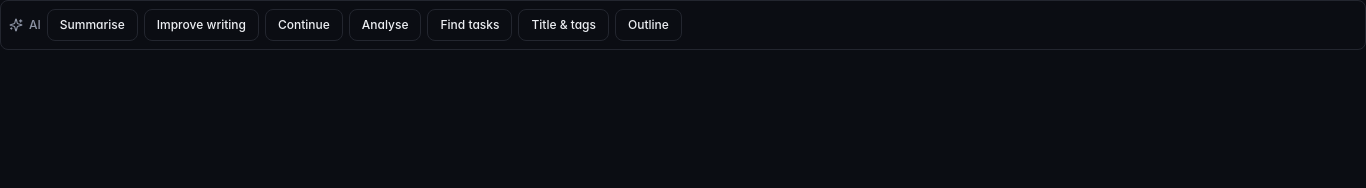
NoteAiPanel › offers no Apply for an answer that is only to be read
Step 1. Click the button "Analyse" → (385, 25), box [349,9,422,41]
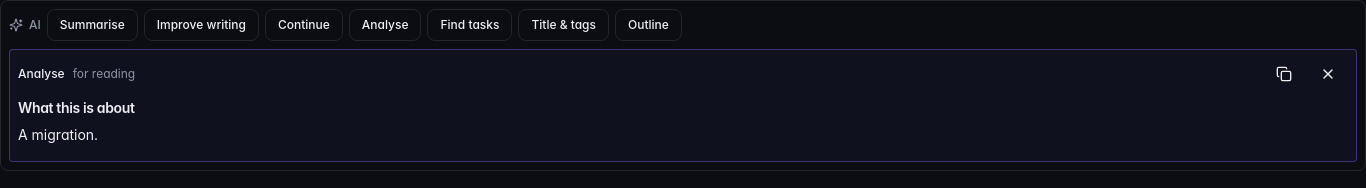
Result: the text "A migration." is shown at [18,126,98,143]
Result: the text "for reading" is shown at [73,66,135,81]
